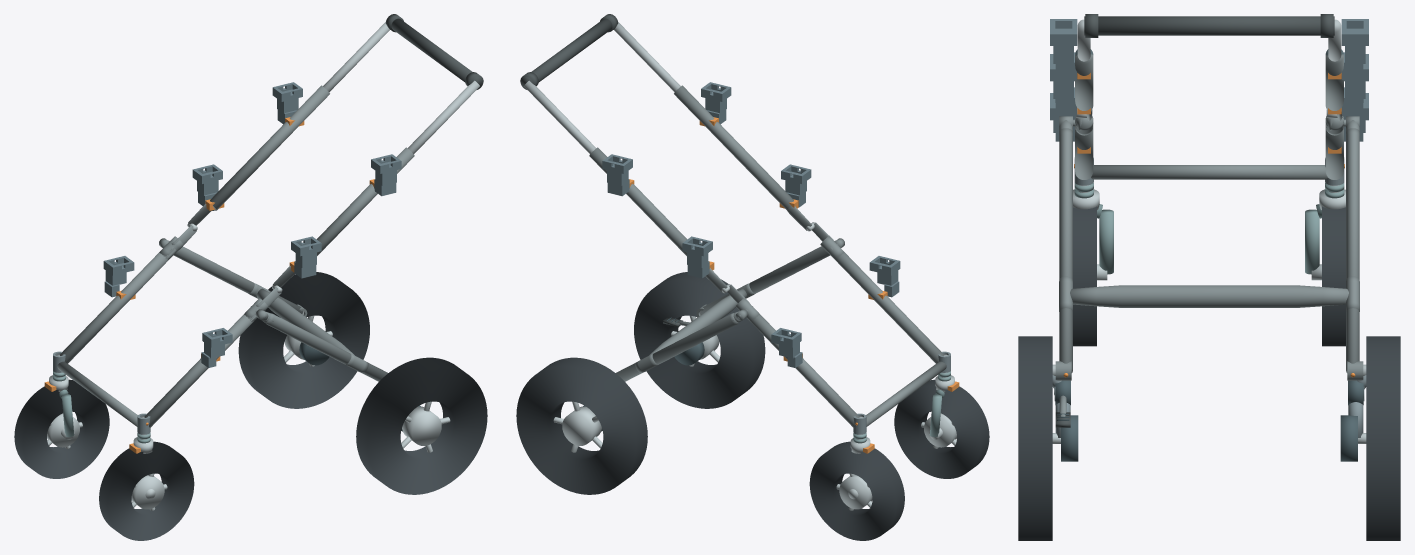
File: w550_state1_wheel_L.glb
3 views of the same model, side by side, from view 1: azimuth 30°, elevation 25°; view 2: azimuth 150°, elevation 25°; view 3: azimuth 270°, elevation 25° (orthographic). The views are drawn at different scales.
Parts seen in each view (by area): view 1: RL_tire.002, RR_tire.002, FL_tire.002, FR_tire.002, main_upper_1.003, main_lower_1.003, V46_rear_leg_-1.003, main_lower_-1.003, round_handle.002, main_upper_-1.003, V46_rear_leg_1.003, V46_rearbar.003 (+12 smaller); view 2: RR_tire.002, RL_tire.002, FR_tire.002, FL_tire.002, main_upper_-1.003, main_lower_-1.003, V46_rear_leg_1.003, main_lower_1.003, round_handle.002, main_upper_1.003, V46_rear_leg_-1.003, V46_rearbar.003 (+12 smaller); view 3: RL_tire.002, RR_tire.002, V46_rearbar.003, round_handle.002, front_fixed_round_tube.002, FL_tire.002, FR_tire.002, V46_rear_leg_1.003, V46_rear_leg_-1.003, Universal_Cabin_Receiver_H_1, Universal_Cabin_Receiver_H_-1, FL_fork.002 (+9 smaller).
Boxes of the visible parts, x1,y1,x2,y2 form: RL_tire.002: [356, 357, 487, 494]; RR_tire.002: [238, 272, 369, 408]; FL_tire.002: [99, 441, 194, 540]; FR_tire.002: [14, 379, 109, 478]; main_upper_1.003: [210, 85, 329, 209]; main_lower_1.003: [60, 249, 175, 363]; V46_rear_leg_-1.003: [265, 313, 387, 381]; main_lower_-1.003: [144, 314, 256, 427]; round_handle.002: [391, 18, 482, 88]; main_upper_-1.003: [295, 147, 414, 261]; V46_rear_leg_1.003: [173, 246, 303, 313]; V46_rearbar.003: [256, 288, 354, 355]; RR_tire.002: [516, 357, 647, 494]; RL_tire.002: [634, 272, 765, 408]; FR_tire.002: [809, 441, 904, 540]; FL_tire.002: [894, 379, 989, 478]; main_upper_-1.003: [674, 85, 793, 209]; main_lower_-1.003: [828, 249, 943, 363]; V46_rear_leg_1.003: [616, 313, 738, 381]; main_lower_1.003: [747, 314, 859, 427]; round_handle.002: [521, 18, 612, 88]; main_upper_1.003: [589, 147, 708, 261]; V46_rear_leg_-1.003: [700, 246, 830, 313]; V46_rearbar.003: [649, 288, 747, 355]; RL_tire.002: [1018, 336, 1052, 540]; RR_tire.002: [1366, 336, 1400, 540]; V46_rearbar.003: [1070, 285, 1348, 307]; round_handle.002: [1084, 16, 1334, 35]; front_fixed_round_tube.002: [1091, 165, 1327, 179]; FL_tire.002: [1073, 206, 1096, 346]; FR_tire.002: [1322, 206, 1345, 346]; V46_rear_leg_1.003: [1346, 128, 1359, 372]; V46_rear_leg_-1.003: [1059, 128, 1072, 372]; Universal_Cabin_Receiver_H_1: [1341, 19, 1368, 79]; Universal_Cabin_Receiver_H_-1: [1050, 19, 1077, 79]; FL_fork.002: [1099, 209, 1113, 274].
Bounding box in the file's own units: 1.14 × 1.1 × 0.671.
